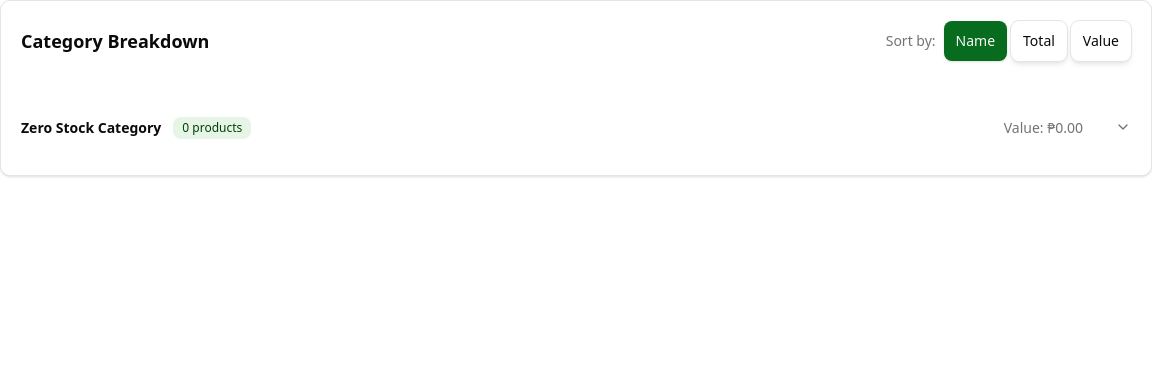
Test: CategoryInventoryBreakdown › Stock Bar Visualization › should handle zero stock gracefully
The image size is (1152, 374).
// Expand category
Click the heading "Zero Stock Category" at x=91, y=128, box 21,118 -> 161,138
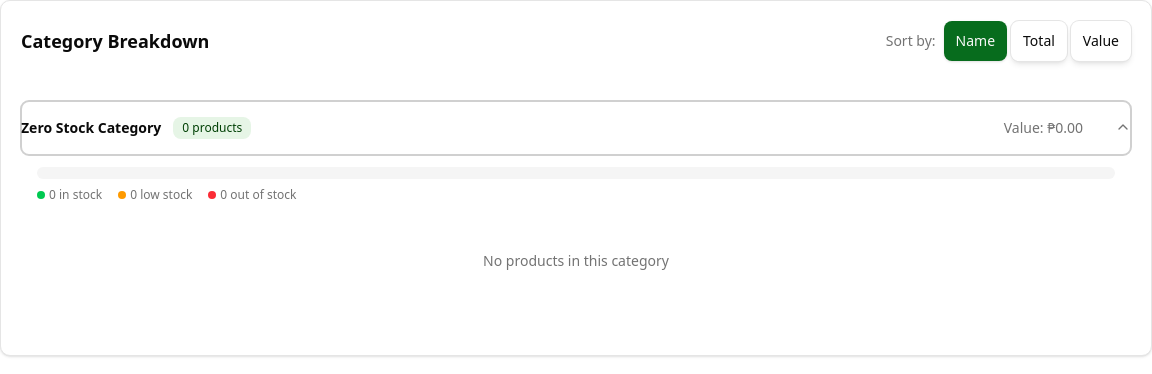
Now the text "No products in this category" is shown, box 483,251 -> 669,270
